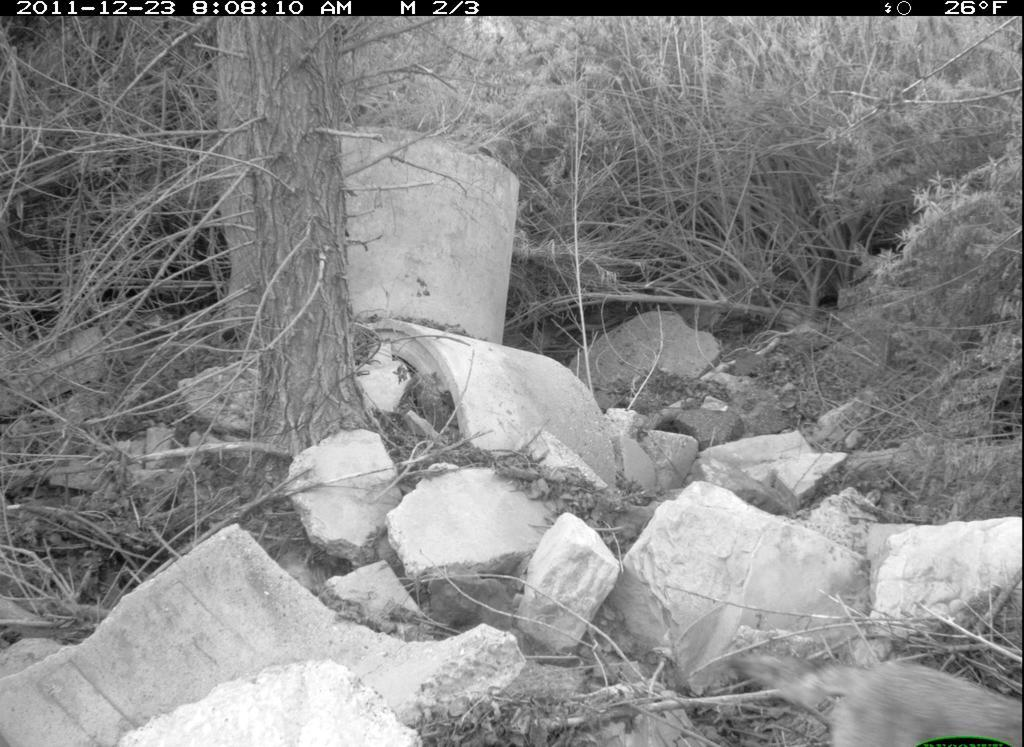coyote: (726, 637, 1023, 744)
